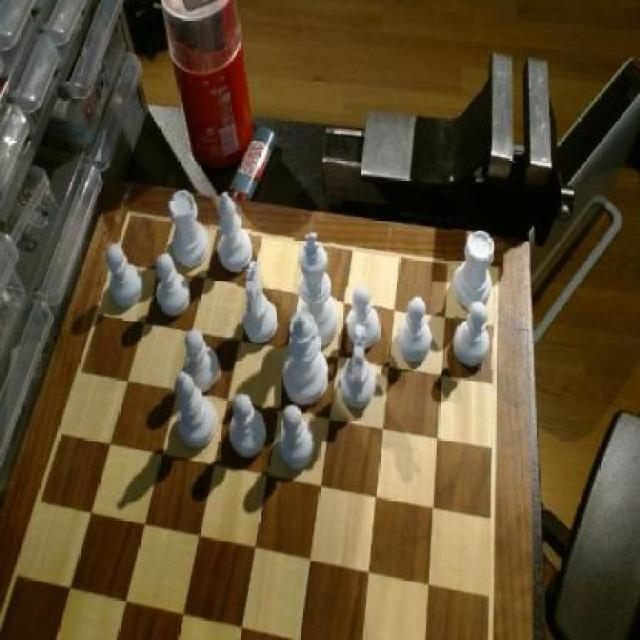black-rook: (174, 369, 220, 448), (217, 194, 252, 271)
white-bishop: (295, 236, 338, 346)
white-king: (338, 323, 379, 414), (238, 265, 282, 342)
white-knight: (343, 286, 385, 356), (452, 305, 496, 370), (397, 296, 434, 368), (106, 245, 145, 310), (229, 395, 268, 458), (183, 330, 222, 392), (278, 405, 316, 466), (155, 256, 193, 316)
white-pawn: (282, 310, 332, 404)
white-queen: (451, 226, 495, 312), (168, 188, 210, 270)
